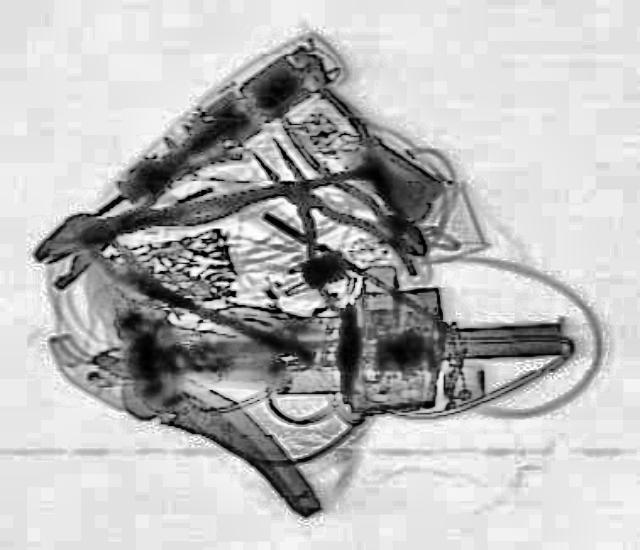Pliers: (212, 119, 426, 319), (262, 80, 456, 270), (61, 144, 269, 264)
